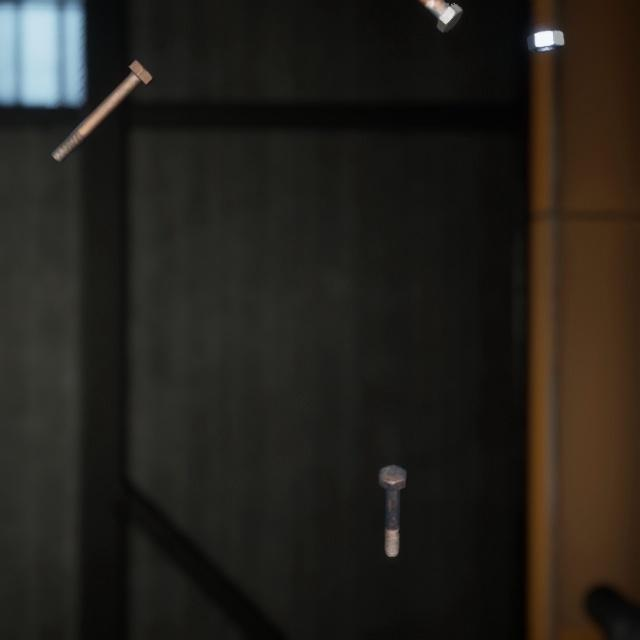bolt: (46, 43, 158, 155), (374, 439, 411, 540), (415, 0, 467, 33)
nut: (522, 16, 568, 47)
